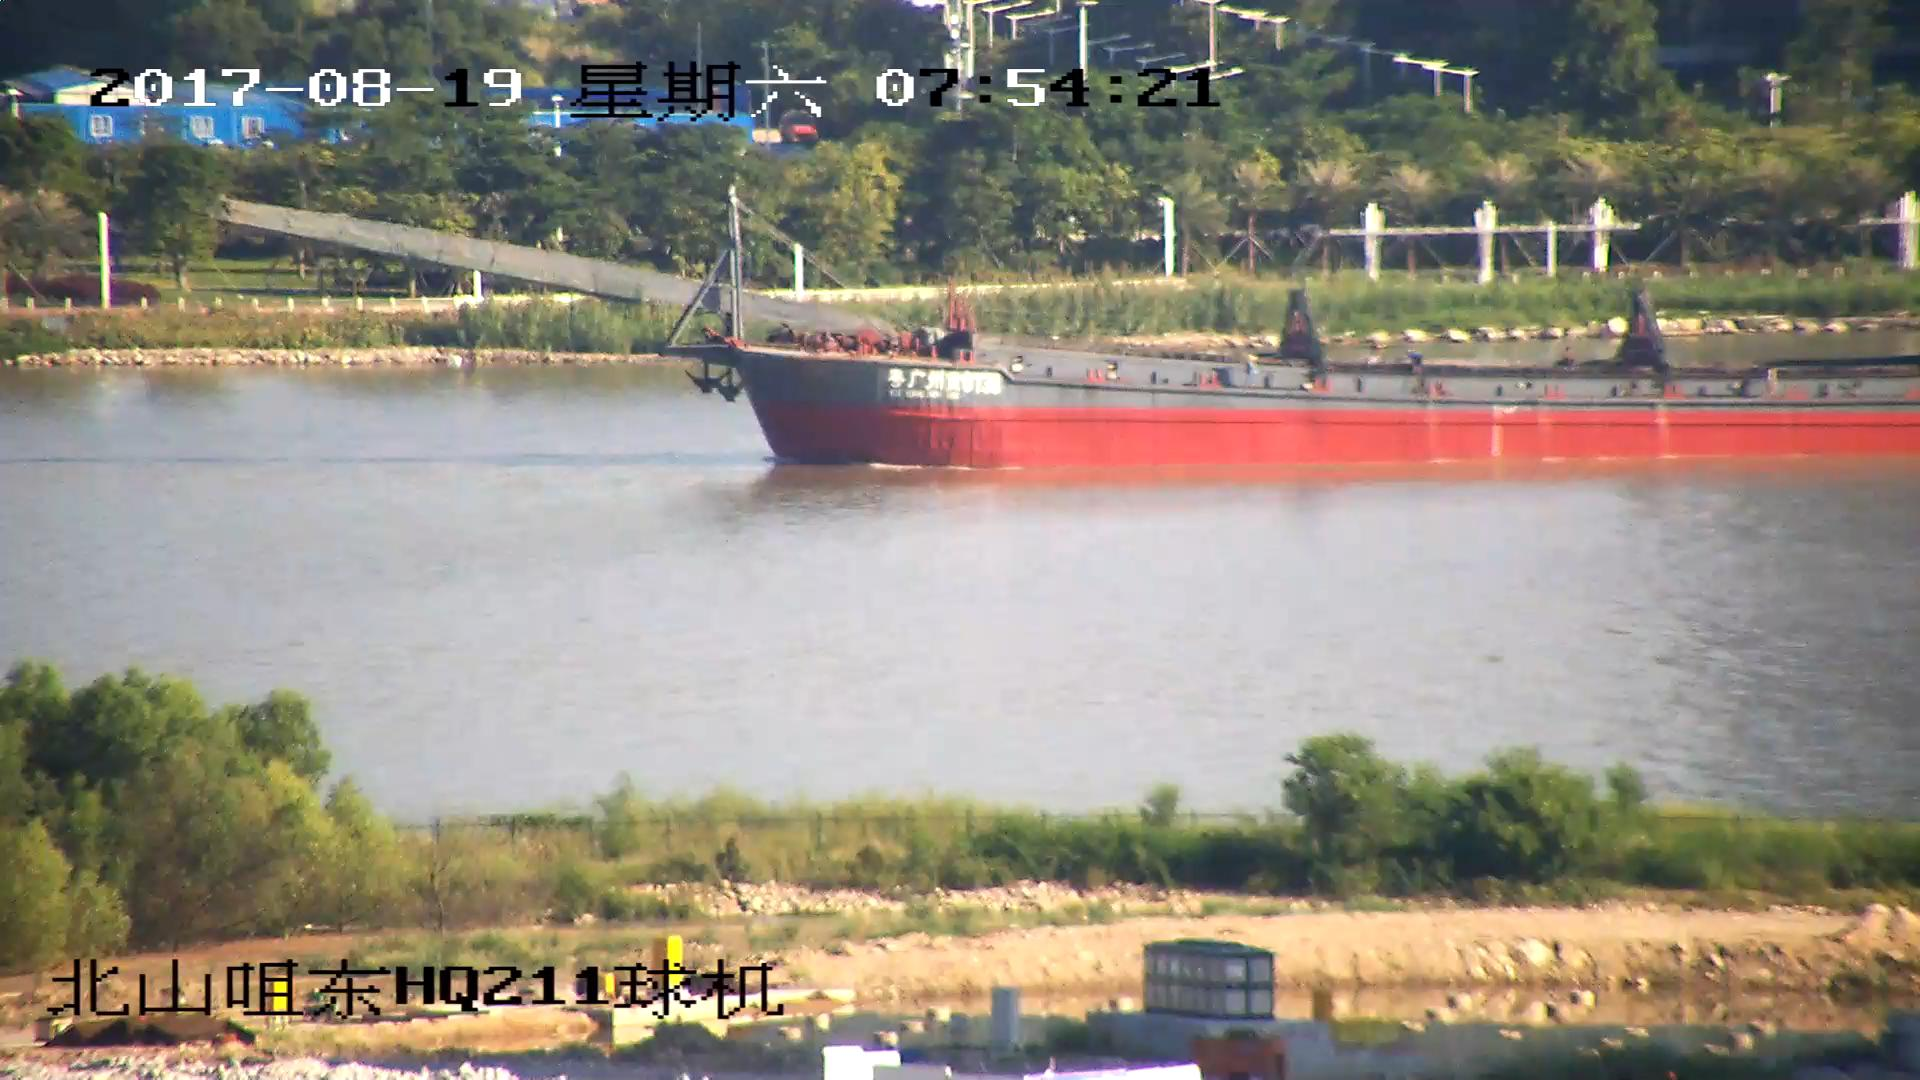bulk cargo carrier: (220, 193, 1920, 474)
